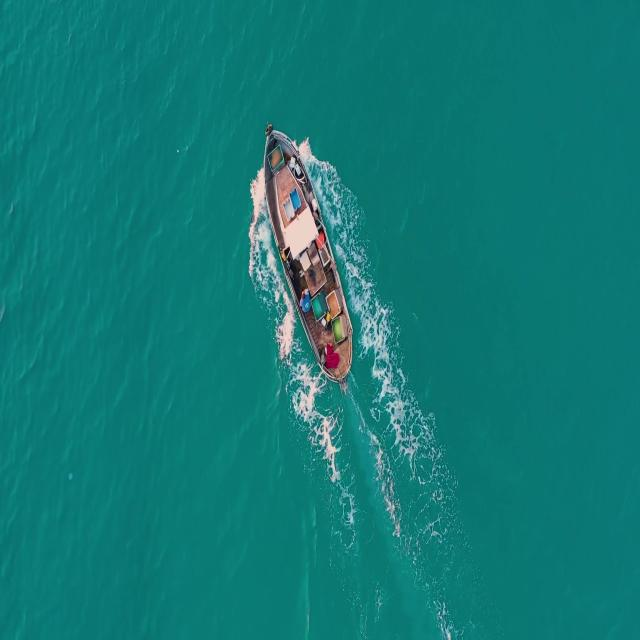ship: (258, 117, 354, 386)
